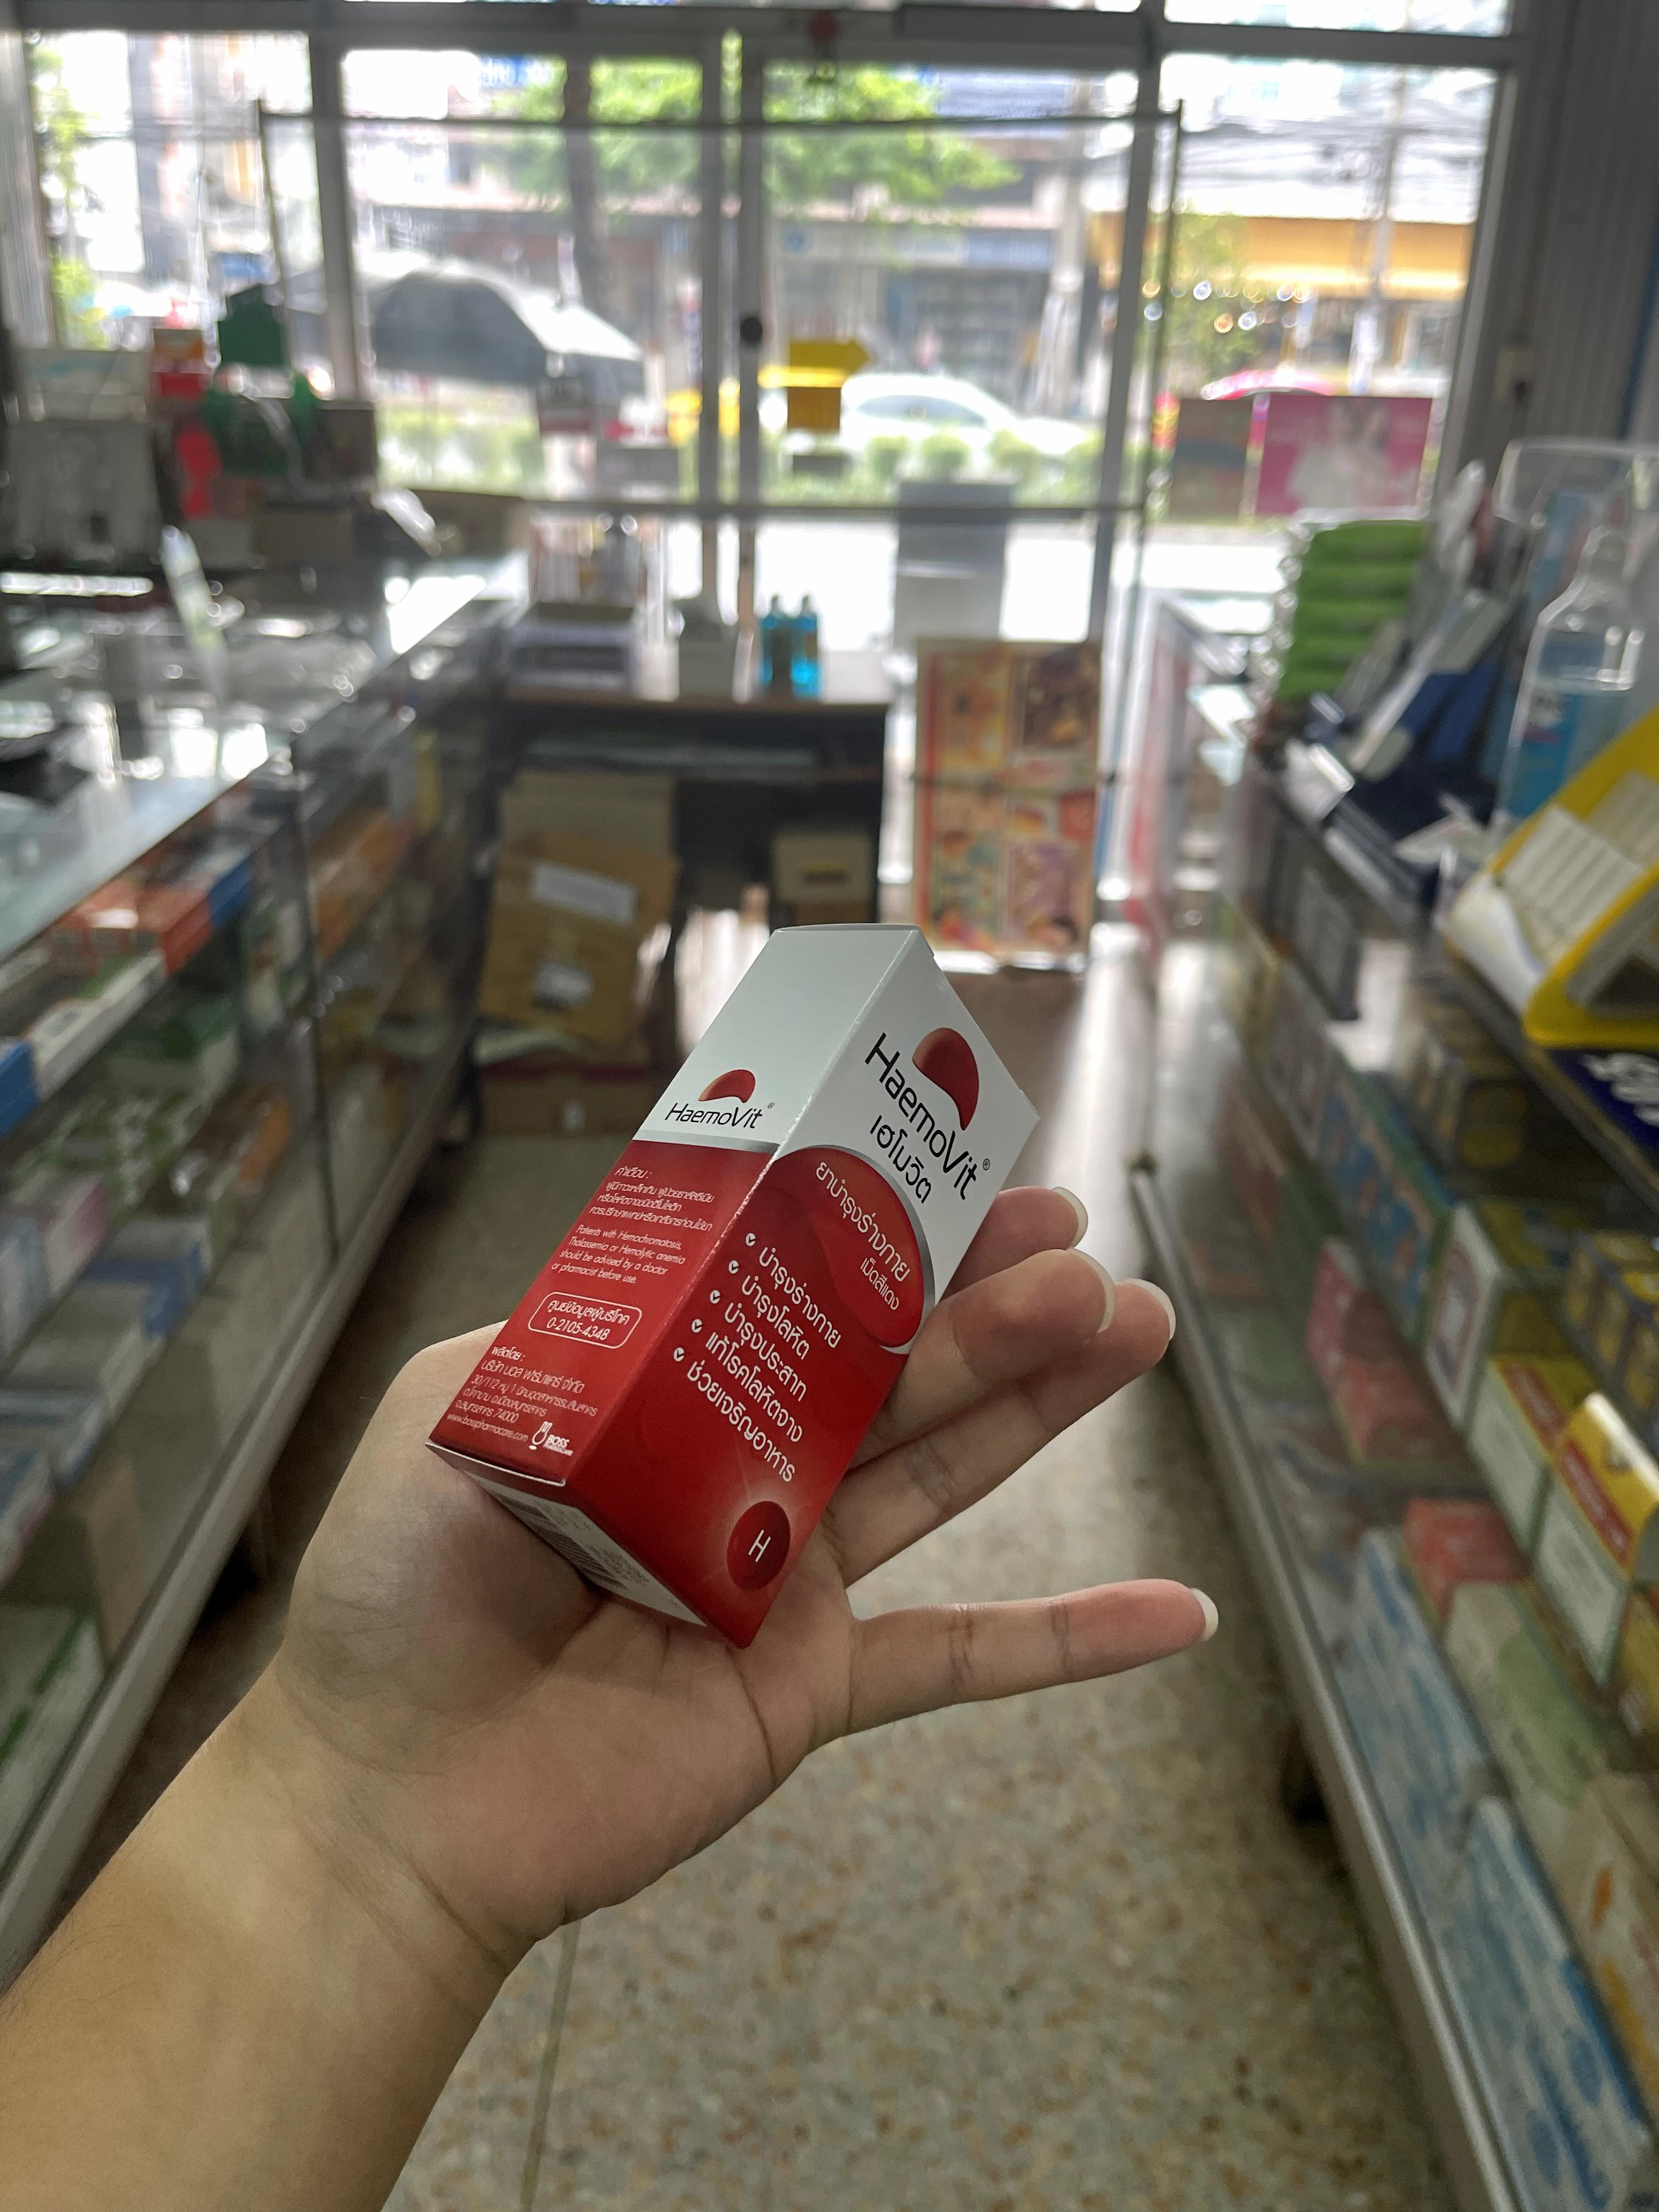Heamovit: (430, 921, 1046, 1649)
